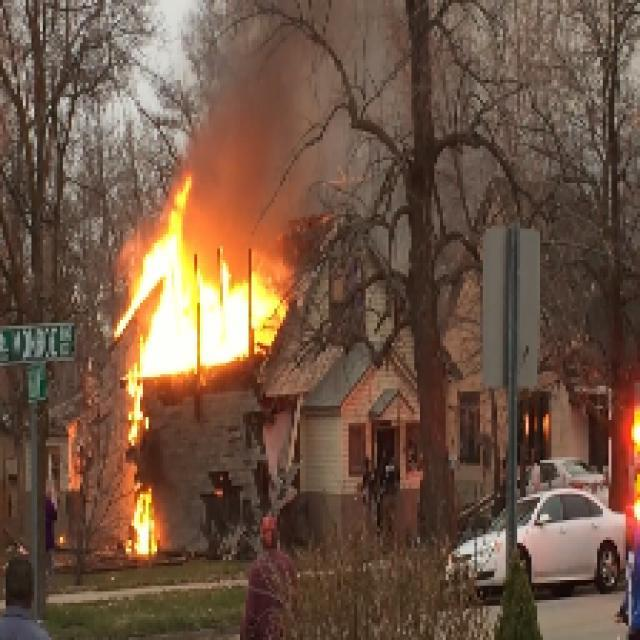Fire: (117, 214, 290, 384)
Smoke: (204, 54, 308, 174)
